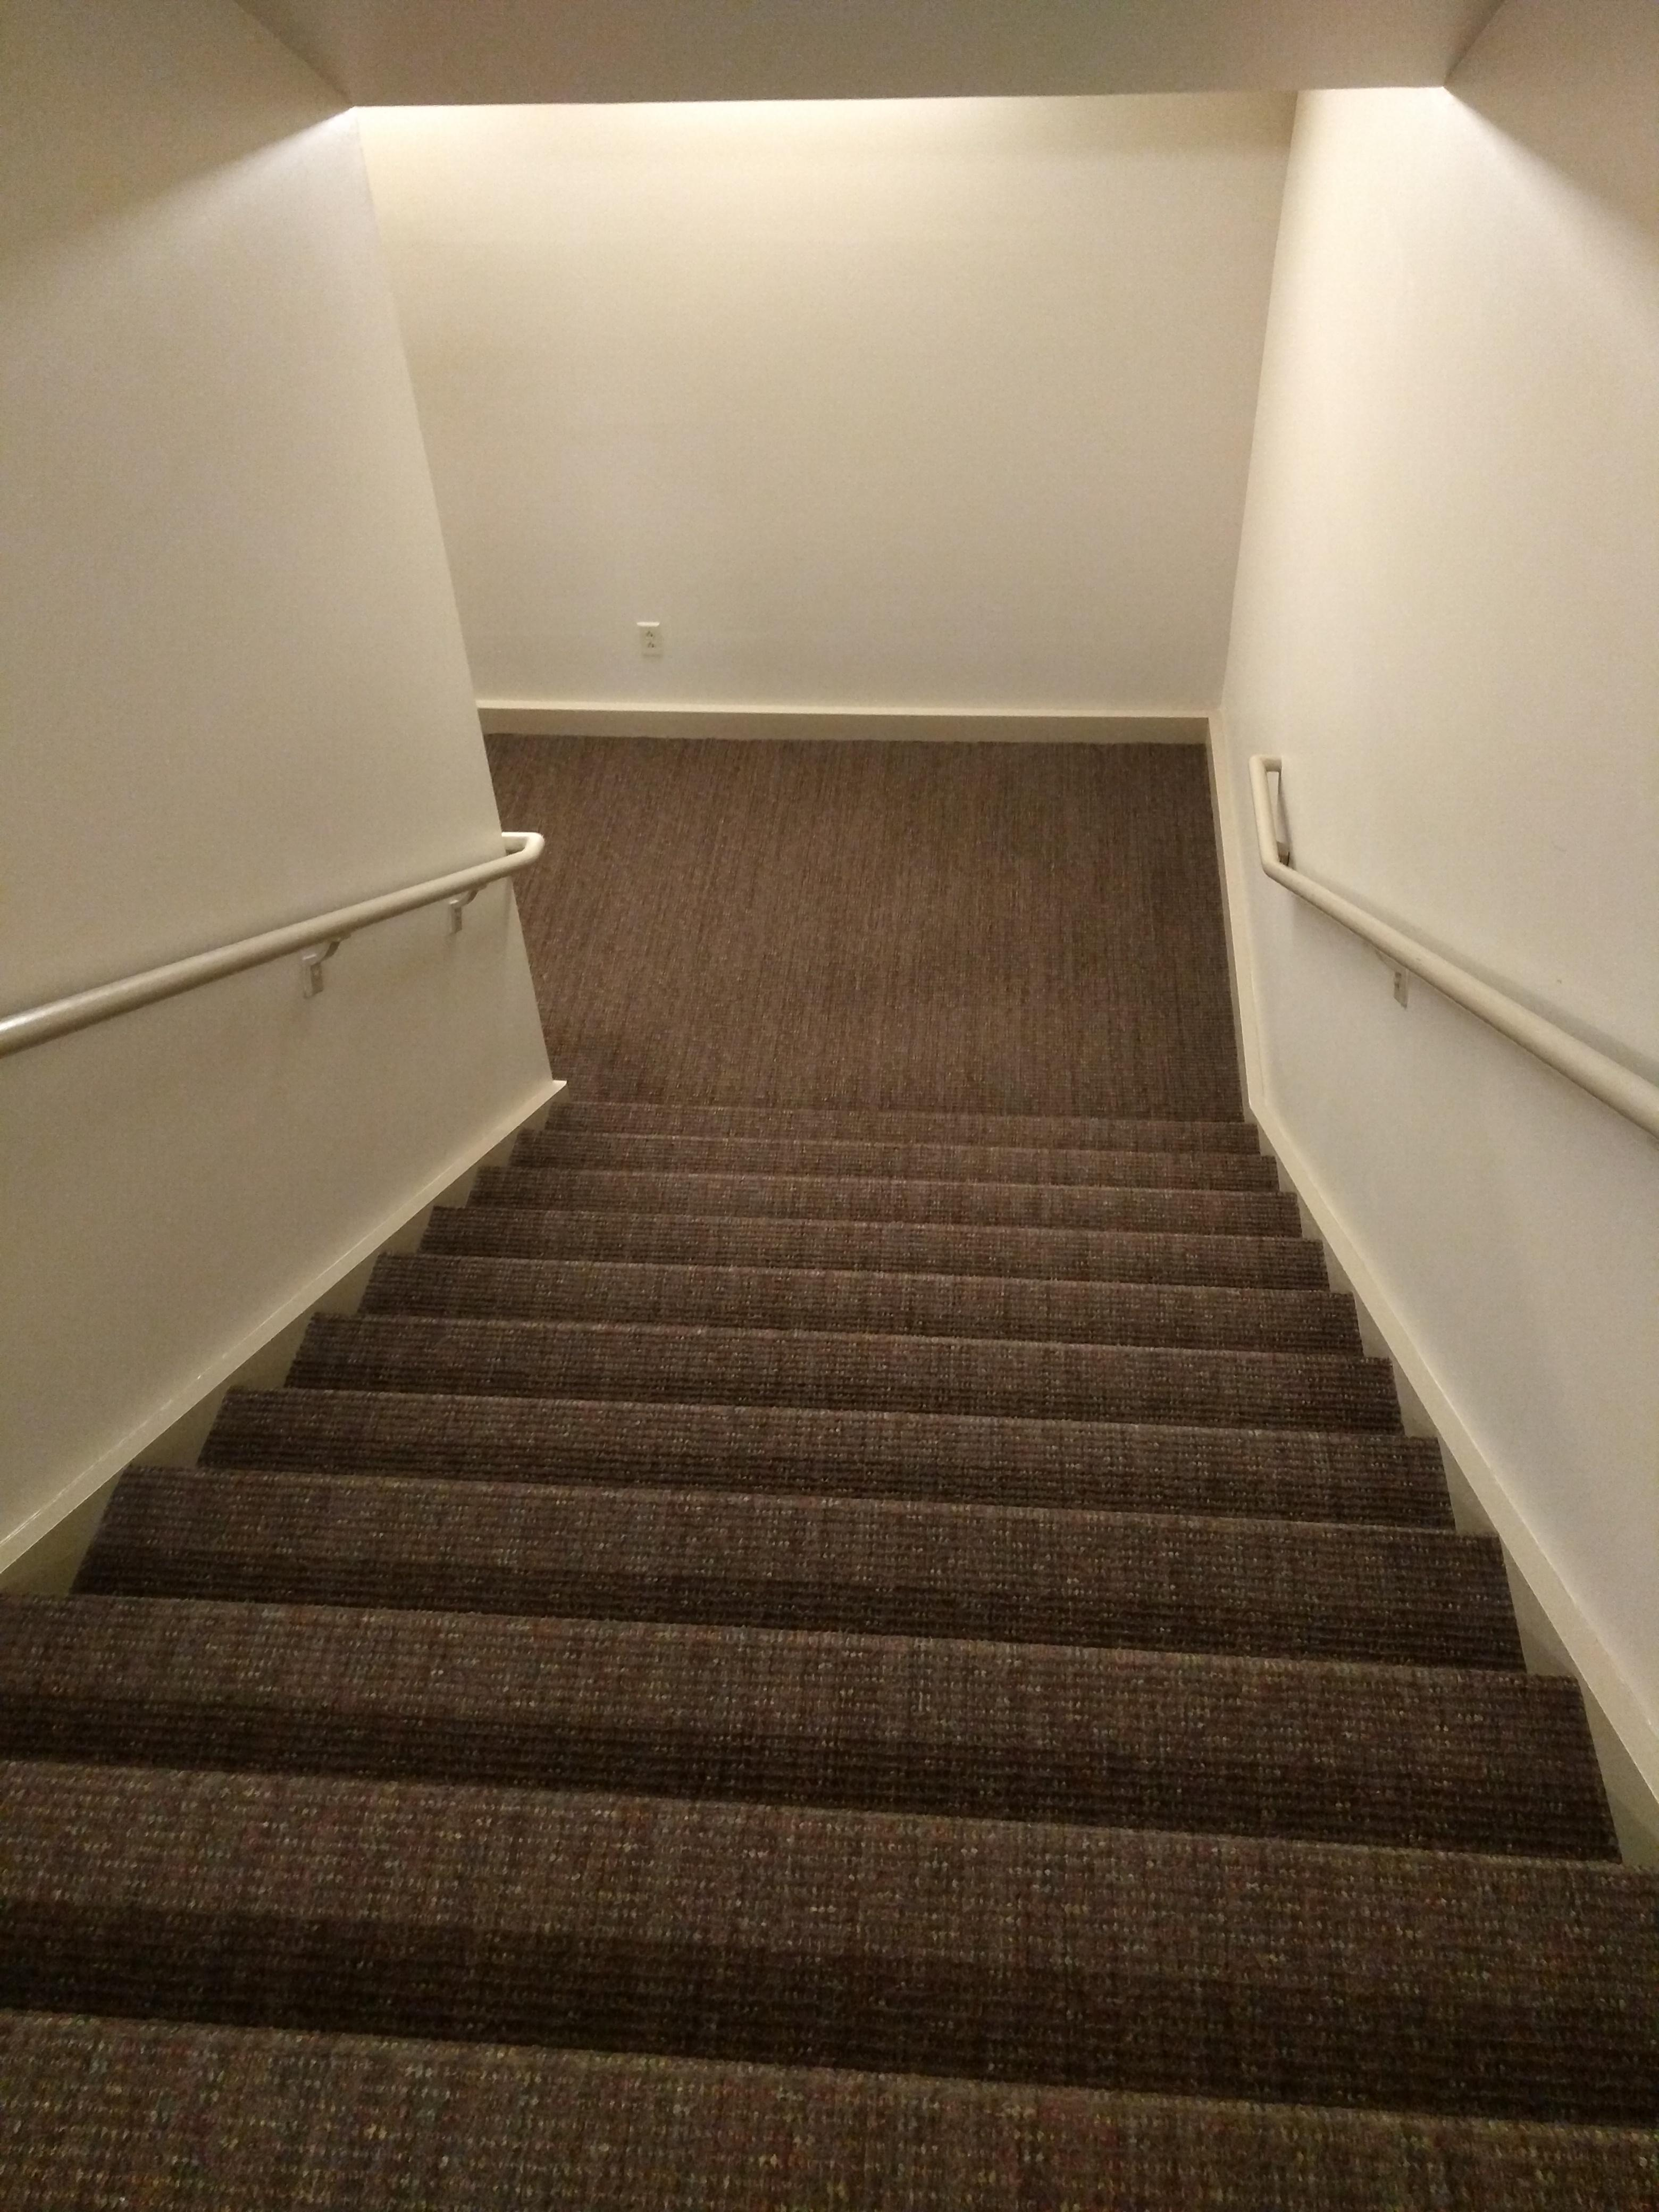stairs_down: (0, 1059, 1647, 2195)
